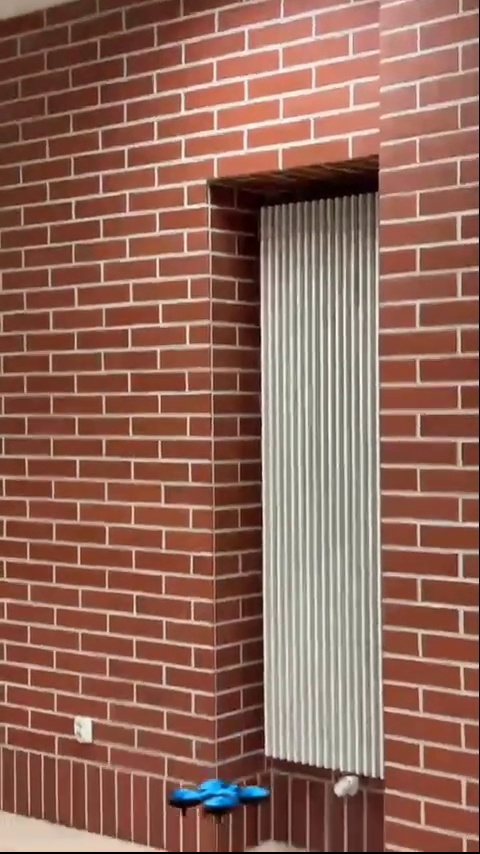drone: (171, 777, 270, 813)
